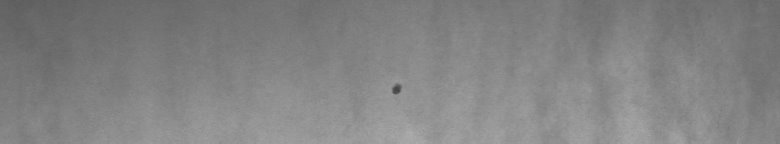fi: (388, 76, 407, 100)
